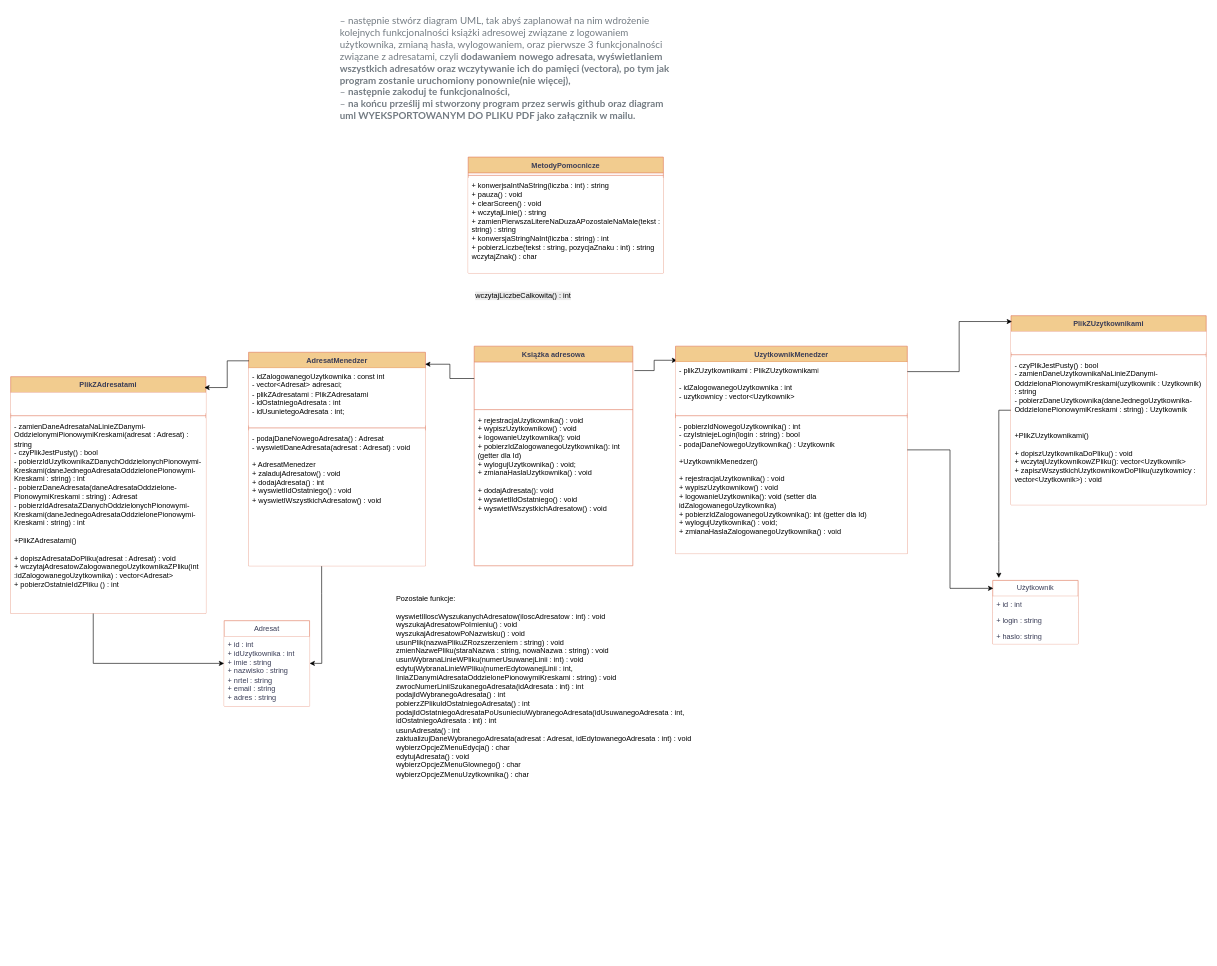
This 1217x966 diagram has some shape labels left out. Here are the shapes that lost their labels. From the top down, the centre of each, then its label:
(x=1108, y=341): - nazwaPlikuZUzytkownikami : const string
(x=108, y=402): - nazwaPlikuZAdresatami : const string
(x=553, y=384): - UzytkownikMenedzer uzytkownikMenedzer; - AdresatMenedzer adresatMenedzer
